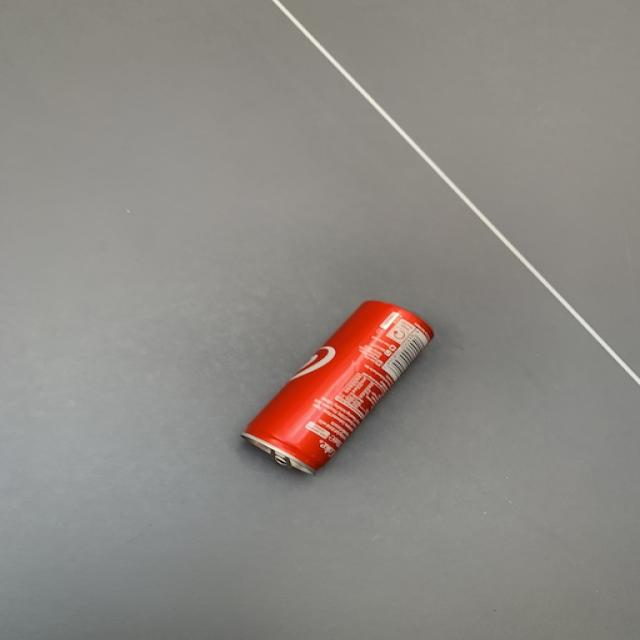litter: (235, 295, 435, 478)
